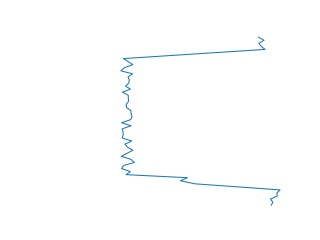distributaryChannelFill: (117, 35, 285, 207)
